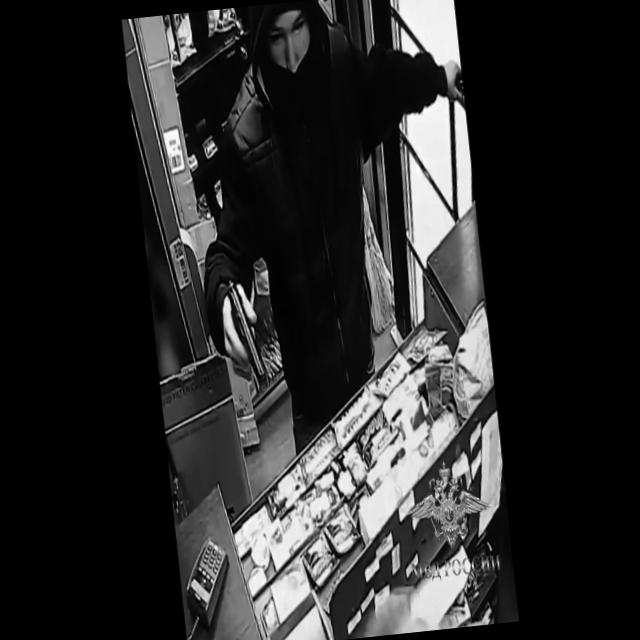gun: (217, 271, 274, 406)
person with a gun: (182, 0, 503, 472)
